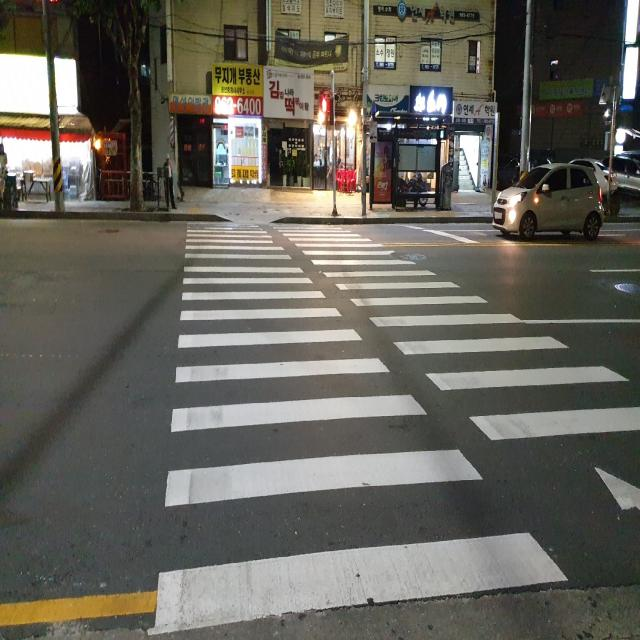횡단보도: (148, 226, 640, 636)
